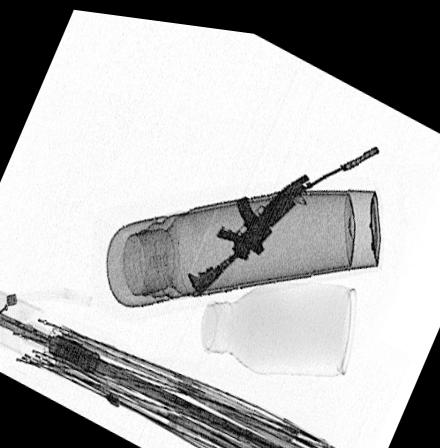Gun: (184, 134, 378, 290)
